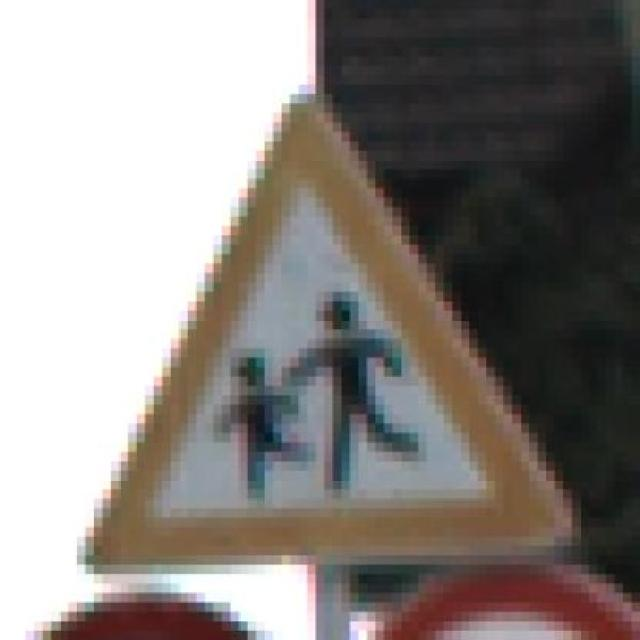Beware of children: (68, 75, 581, 593)
